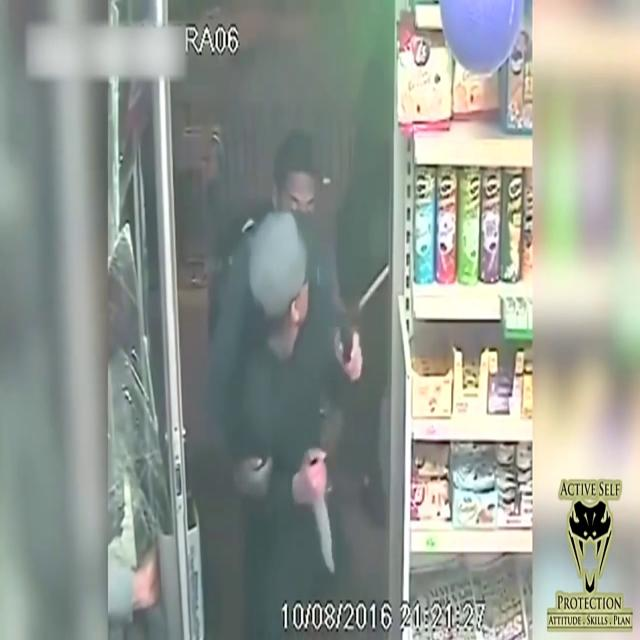Knife_Handle: (295, 444, 335, 575)
